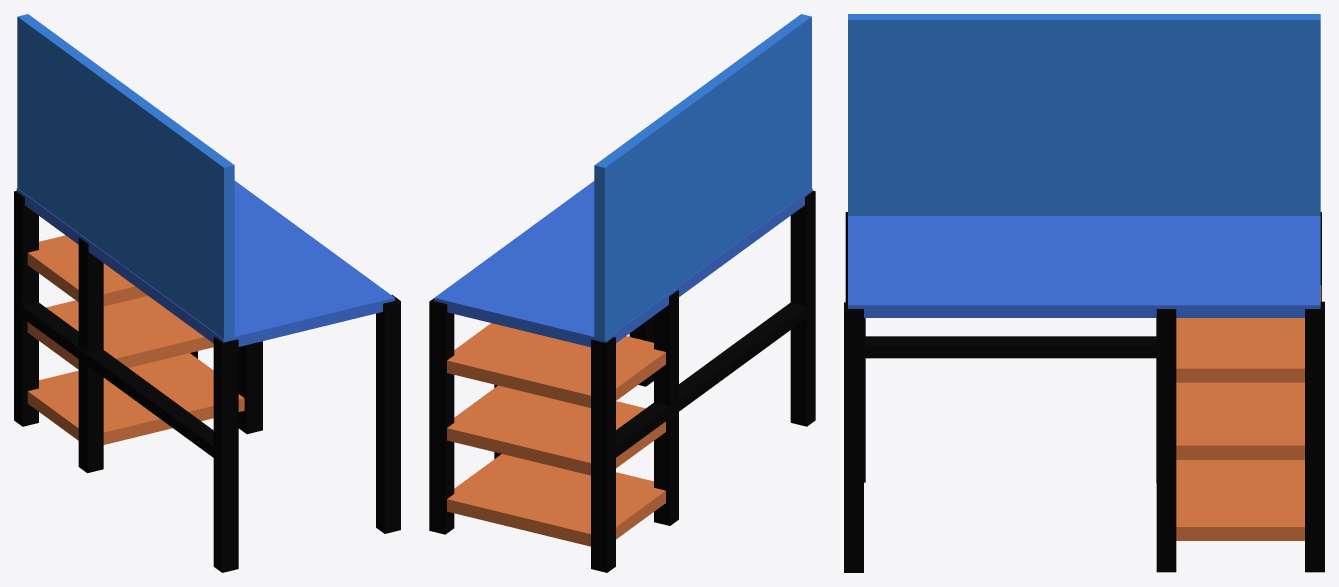
Rendered from Carfting Table.fbx.
3 views of the same model, side by side, from view 1: azimuth 30°, elevation 25°; view 2: azimuth 150°, elevation 25°; view 3: azimuth 270°, elevation 25° (orthographic). The views are drawn at different scales.
Visible parts, largest first — view 1: Ścianka, Blat, półka.003, półka.002, noga.001, noga, noga.005, łącznik, noga.004, półka.001, noga.002; view 2: Ścianka, Blat, półka.003, półka.001, półka.002, noga.004, noga.003, noga.001, łącznik, noga.005, noga; view 3: Ścianka, Blat, półka.003, półka.002, półka.001, łącznik, noga.002, noga.003, noga.
Boxes of the visible parts, left/top/right/bottom form: Ścianka: left=17, top=14, right=234, bottom=342; Blat: left=16, top=181, right=394, bottom=346; półka.003: left=27, top=353, right=244, bottom=444; półka.002: left=27, top=296, right=213, bottom=369; noga.001: left=213, top=337, right=238, bottom=572; noga: left=376, top=295, right=400, bottom=533; noga.005: left=78, top=237, right=103, bottom=473; łącznik: left=14, top=301, right=221, bottom=462; noga.004: left=14, top=191, right=38, bottom=426; półka.001: left=27, top=235, right=147, bottom=306; noga.002: left=238, top=341, right=262, bottom=434; Ścianka: left=594, top=14, right=811, bottom=342; Blat: left=434, top=181, right=812, bottom=347; półka.003: left=447, top=454, right=665, bottom=546; półka.001: left=447, top=323, right=665, bottom=407; półka.002: left=447, top=385, right=665, bottom=475; noga.004: left=591, top=337, right=615, bottom=572; noga.003: left=429, top=298, right=454, bottom=534; noga.001: left=790, top=190, right=815, bottom=426; łącznik: left=608, top=301, right=814, bottom=463; noga.005: left=654, top=290, right=678, bottom=525; noga: left=629, top=316, right=653, bottom=386; Ścianka: left=848, top=14, right=1320, bottom=215; Blat: left=848, top=216, right=1320, bottom=317; półka.003: left=1176, top=460, right=1304, bottom=540; półka.002: left=1176, top=382, right=1304, bottom=459; półka.001: left=1176, top=285, right=1321, bottom=382; łącznik: left=864, top=336, right=1156, bottom=358; noga.002: left=1156, top=309, right=1176, bottom=572; noga.003: left=1305, top=301, right=1324, bottom=572; noga: left=844, top=302, right=863, bottom=572.
Bounding box in the file's own units: 233 × 505 × 477.
